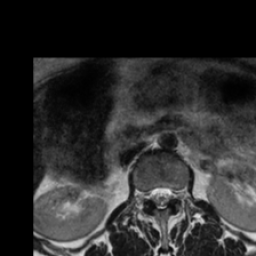CCS_normal: (156, 177, 164, 215)
LFS_normal: (172, 177, 180, 207)
LLS_normal: (164, 177, 172, 209)
RFS_normal: (140, 182, 148, 208)
RLS_normal: (148, 181, 156, 208)
